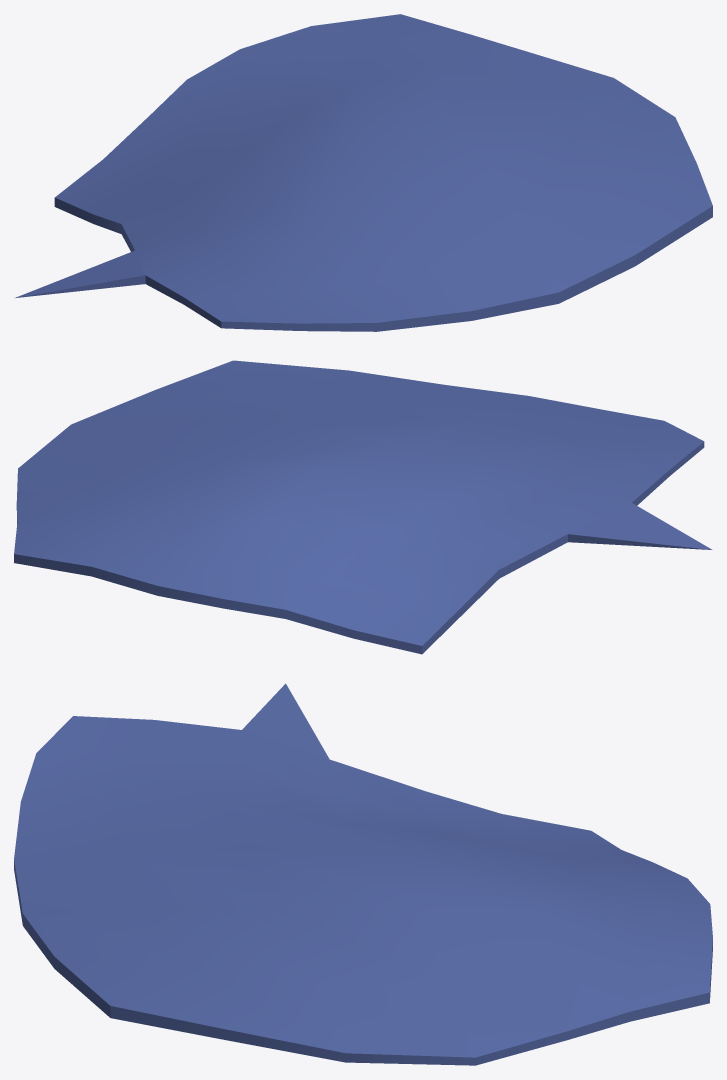
File: stickers_01.fbx
3 views of the same model, one above another, from view 1: azimuth 30°, elevation 25°; view 2: azimuth 150°, elevation 25°; view 3: azimuth 270°, elevation 25° (orthographic). The views are drawn at different scales.
Parts seen in each view (by area): view 1: pCube1; view 2: pCube1; view 3: pCube1.
Part boxes in pixels (left/top/right/bottom): pCube1: left=14, top=14, right=712, bottom=331; pCube1: left=14, top=360, right=712, bottom=654; pCube1: left=14, top=683, right=712, bottom=1065.
Size of the model in its own units: 2.36 by 0.2951 by 1.92.
